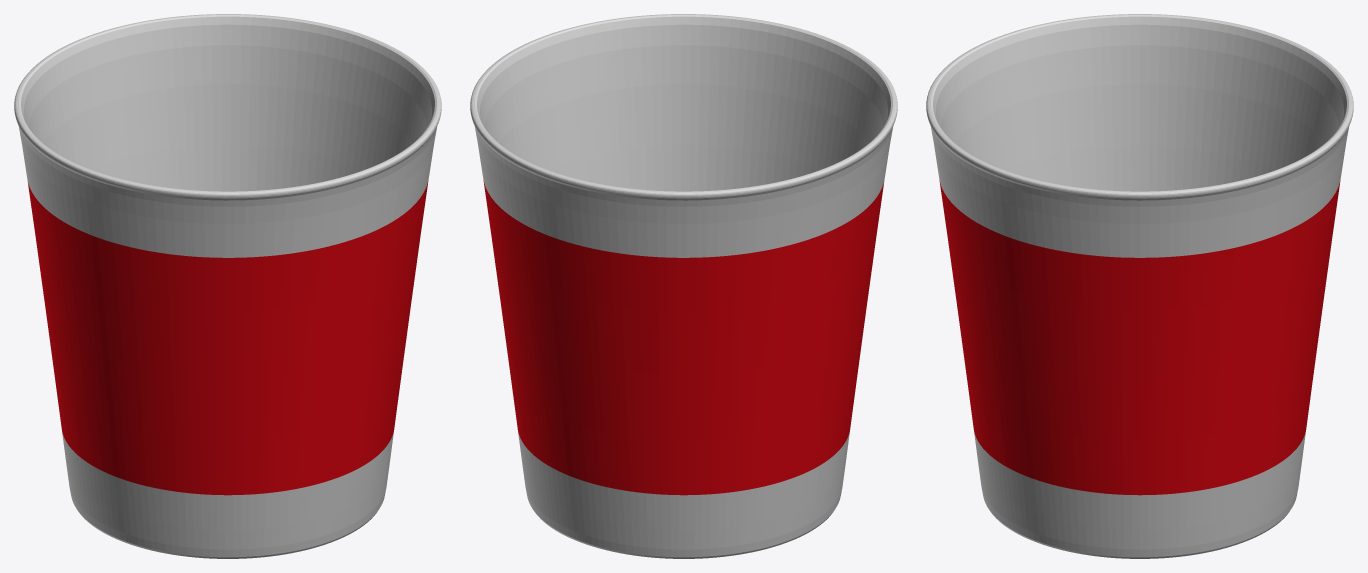
The model's file is EmptyBucket.fbx.
The picture shows the model from 3 angles, left to right: view 1: azimuth 30°, elevation 25°; view 2: azimuth 150°, elevation 25°; view 3: azimuth 270°, elevation 25°; orthographic projection.
Visible parts, largest first — view 1: KFCBucket; view 2: KFCBucket; view 3: KFCBucket.
Part boxes in pixels (x1,y1,x2,y2): KFCBucket: [14, 14, 441, 558]; KFCBucket: [470, 14, 897, 558]; KFCBucket: [926, 14, 1353, 558].
Bounding box in the file's own units: 28.73 × 28.99 × 28.73.
